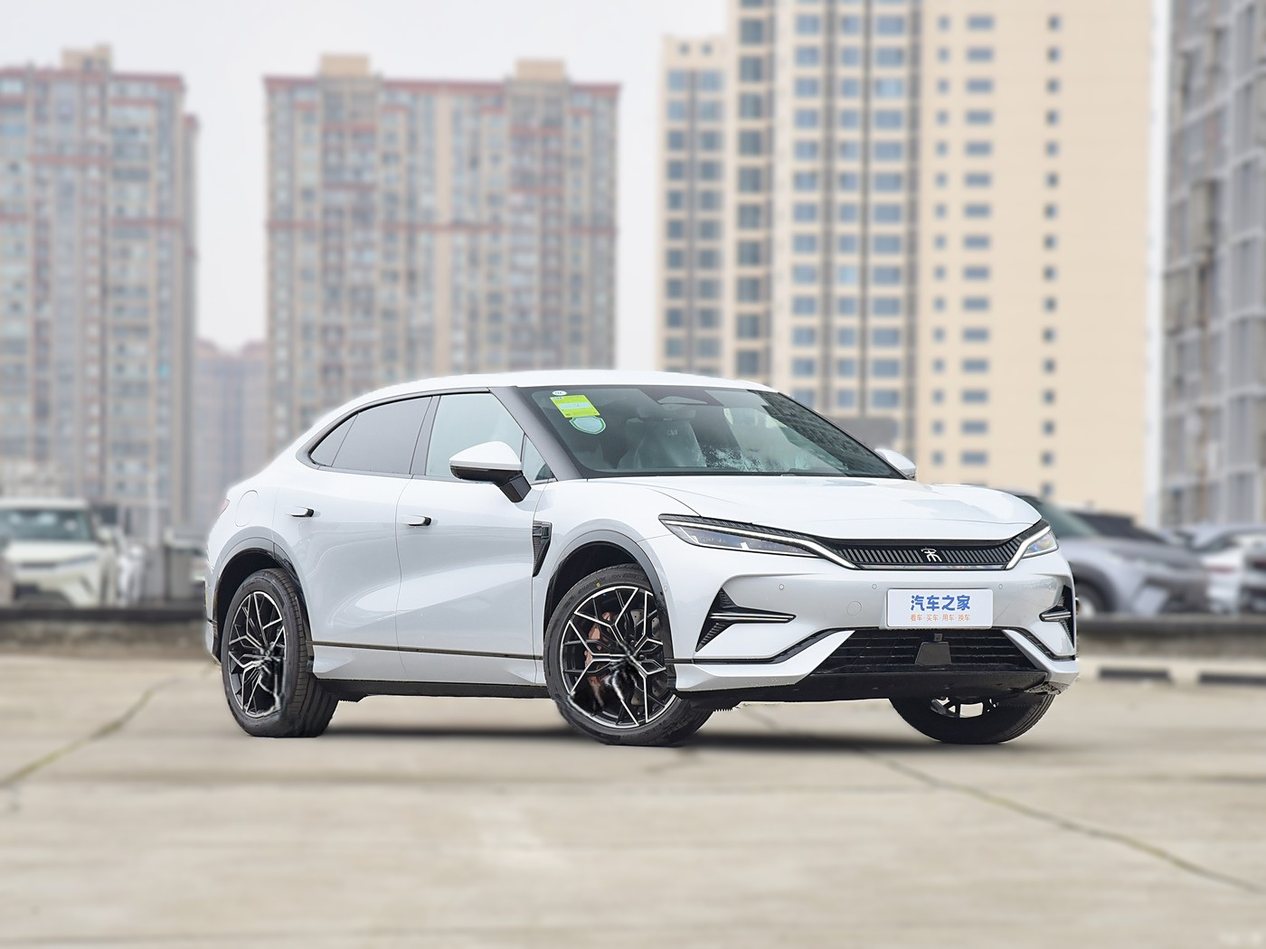BYD Song: (921, 547, 941, 561)
